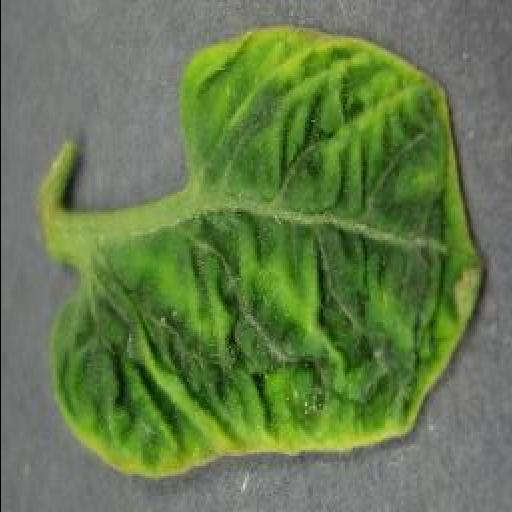disease_tomato: (51, 24, 485, 478)
